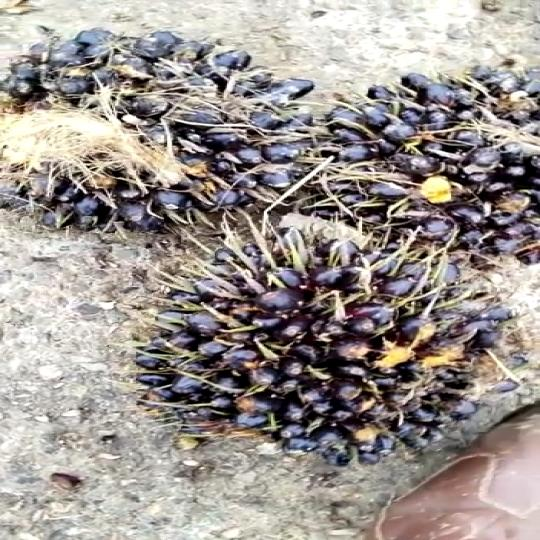mentah: (99, 235, 527, 471), (0, 17, 336, 242), (307, 45, 540, 269)
